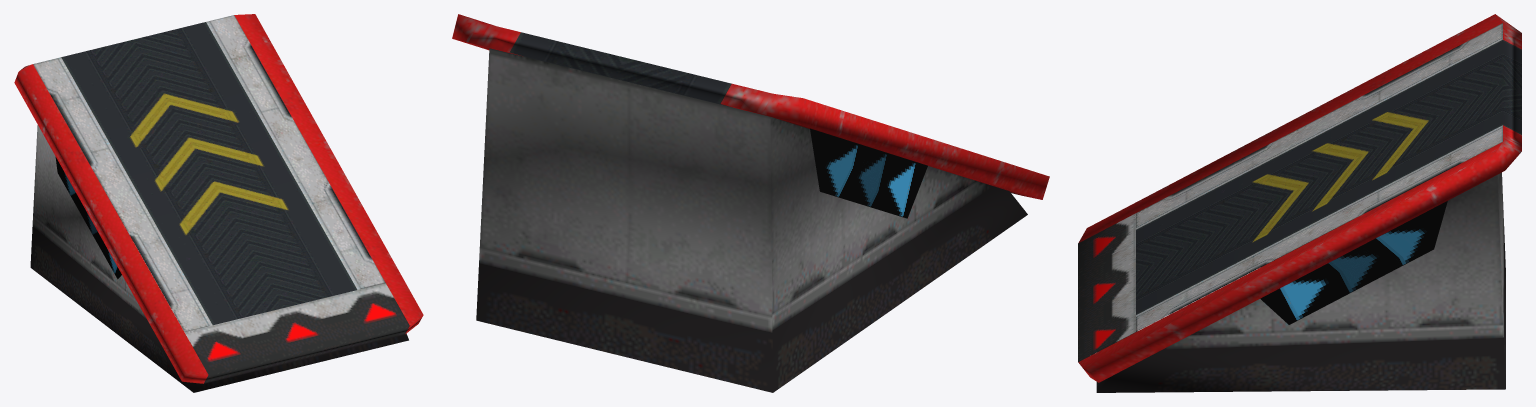
File: jumpPanel.fbx
3 views of the same model, side by side, from view 1: azimuth 30°, elevation 25°; view 2: azimuth 150°, elevation 25°; view 3: azimuth 270°, elevation 25° (orthographic). The views are drawn at different scales.
Visible parts, largest first — view 1: cmn_obj_jumppanel30S.001; view 2: cmn_obj_jumppanel30S.001; view 3: cmn_obj_jumppanel30S.001.
Boxes of the visible parts, box(x1,y1,x2,y2) form: cmn_obj_jumppanel30S.001: box(14, 14, 423, 392); cmn_obj_jumppanel30S.001: box(452, 14, 1049, 392); cmn_obj_jumppanel30S.001: box(1078, 14, 1521, 392).
Bounding box in the file's own units: 119 × 98.18 × 160.
